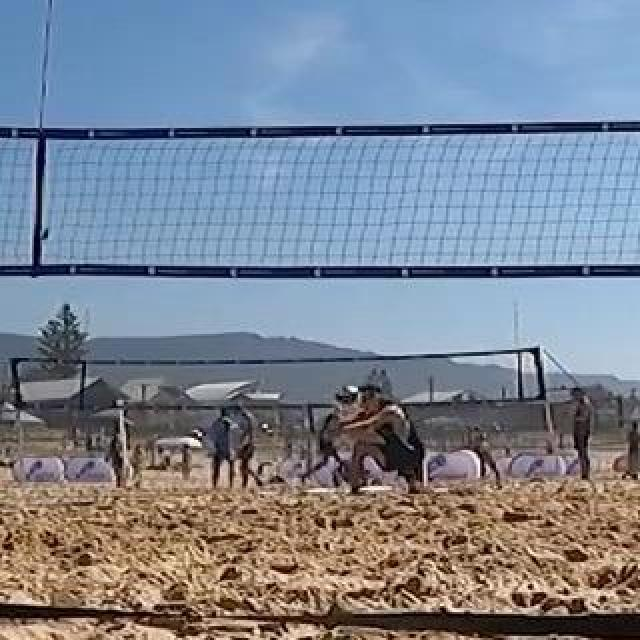volleyball: (333, 385, 361, 413)
